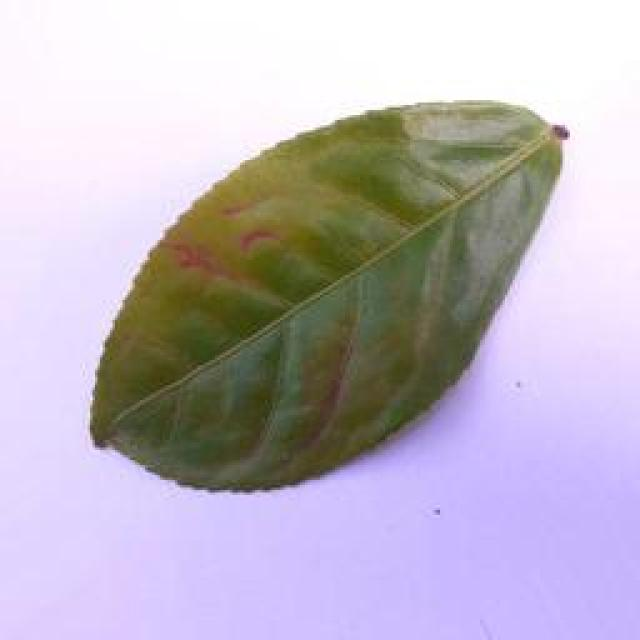Red Leaf Spot: (86, 93, 576, 496)
